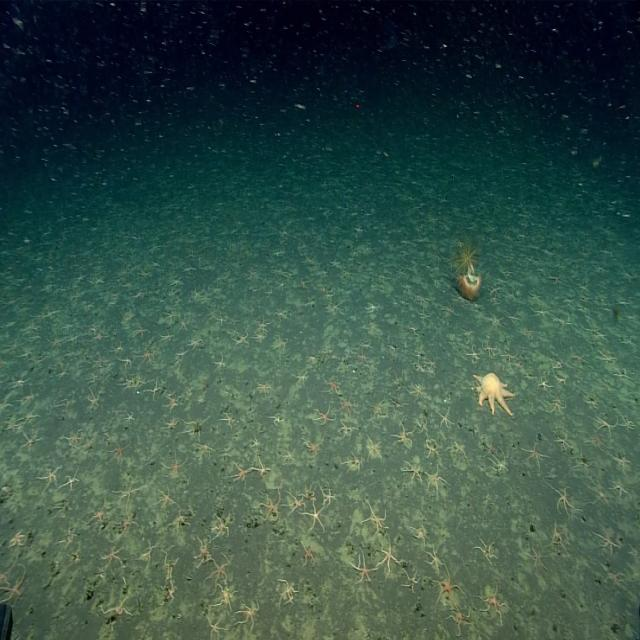brittle-stars: (435, 569, 461, 605), (482, 586, 507, 621), (52, 518, 74, 556), (550, 484, 576, 516), (3, 569, 26, 605), (113, 479, 141, 508), (613, 360, 638, 390), (352, 553, 376, 584), (300, 473, 323, 505), (208, 555, 230, 587), (260, 489, 282, 520), (379, 540, 399, 574), (365, 505, 389, 533), (297, 243, 320, 271), (594, 528, 618, 554), (104, 594, 130, 618), (588, 482, 611, 509), (450, 606, 472, 633), (306, 504, 326, 533), (53, 358, 74, 385), (326, 296, 346, 324), (522, 443, 545, 467), (164, 453, 186, 478), (476, 538, 497, 564), (54, 494, 75, 520), (238, 601, 258, 628), (216, 439, 234, 469), (610, 478, 633, 501), (39, 466, 60, 491), (278, 580, 298, 606), (571, 344, 591, 370), (551, 522, 568, 552), (107, 441, 129, 464), (104, 546, 125, 570), (15, 387, 37, 409), (618, 332, 640, 354), (91, 502, 109, 528), (404, 460, 423, 484), (526, 546, 545, 570), (212, 515, 230, 540), (67, 543, 82, 573), (83, 369, 104, 390), (116, 513, 136, 535), (594, 413, 614, 435), (602, 566, 624, 586), (372, 268, 392, 290), (497, 260, 519, 280), (345, 451, 364, 474), (393, 423, 412, 446), (426, 466, 444, 490), (365, 437, 382, 462), (6, 373, 31, 390), (314, 407, 334, 428), (184, 417, 205, 437), (216, 586, 235, 608), (63, 470, 81, 493), (208, 616, 225, 640), (319, 336, 335, 361), (482, 290, 502, 310), (8, 528, 27, 549), (158, 487, 176, 509), (587, 431, 605, 453), (482, 278, 504, 296), (285, 492, 304, 512), (22, 430, 41, 450), (304, 437, 322, 458), (197, 539, 212, 564), (172, 509, 189, 531), (232, 462, 251, 481), (302, 544, 317, 568), (65, 428, 83, 448), (164, 555, 179, 579), (340, 394, 357, 415), (426, 548, 442, 570), (298, 273, 314, 295), (582, 392, 598, 414), (409, 381, 427, 400), (58, 395, 76, 414), (320, 485, 336, 506), (405, 568, 420, 590), (548, 396, 566, 414), (252, 458, 270, 476), (492, 452, 508, 472), (555, 431, 571, 451), (597, 350, 617, 366), (305, 347, 318, 371), (197, 443, 215, 460), (22, 409, 40, 426), (140, 348, 156, 367), (438, 409, 454, 428), (88, 270, 104, 289), (164, 581, 178, 602), (80, 434, 94, 455), (304, 292, 318, 313), (615, 454, 632, 471), (620, 414, 636, 432), (324, 377, 340, 395), (427, 274, 445, 290), (142, 545, 156, 565), (255, 380, 272, 396), (220, 412, 236, 429), (256, 315, 272, 332), (166, 392, 181, 410), (146, 380, 160, 399), (403, 276, 417, 295), (89, 388, 102, 408), (451, 442, 467, 458), (292, 372, 308, 388), (92, 353, 108, 369), (5, 419, 21, 435), (341, 420, 356, 437), (483, 340, 497, 358), (413, 525, 427, 543), (374, 401, 386, 422), (262, 282, 276, 300), (489, 312, 504, 328), (235, 332, 250, 348), (628, 541, 640, 561), (531, 306, 548, 320), (425, 441, 439, 458), (416, 416, 429, 434), (165, 416, 180, 431), (50, 335, 65, 350), (504, 310, 520, 324), (160, 330, 176, 344), (537, 376, 551, 392), (275, 336, 289, 352), (442, 302, 456, 318), (365, 321, 379, 337), (119, 376, 133, 392), (520, 325, 536, 339), (391, 374, 404, 391), (0, 396, 11, 416), (135, 326, 150, 340), (270, 413, 284, 428), (120, 310, 134, 325), (119, 354, 132, 370), (177, 316, 190, 332), (549, 273, 565, 286), (190, 284, 202, 301), (366, 358, 378, 375), (630, 564, 640, 584), (214, 352, 225, 370), (190, 338, 204, 352), (252, 332, 266, 346), (365, 301, 379, 315), (94, 330, 108, 344), (484, 441, 497, 456), (416, 293, 432, 305), (175, 347, 187, 363), (357, 348, 368, 365), (466, 346, 479, 360), (501, 349, 515, 362), (418, 307, 432, 320), (276, 308, 289, 322), (134, 288, 147, 301), (282, 449, 294, 463), (409, 322, 421, 335), (171, 275, 183, 288), (319, 284, 332, 296), (342, 268, 355, 280), (112, 343, 124, 356), (553, 357, 565, 370), (182, 264, 195, 276), (247, 268, 259, 281), (357, 260, 368, 274), (164, 308, 175, 322), (134, 376, 144, 391), (125, 412, 137, 424), (529, 290, 541, 302), (329, 256, 341, 268), (216, 314, 227, 327), (231, 314, 241, 328), (251, 437, 260, 452), (277, 279, 288, 291), (414, 350, 425, 362), (515, 359, 526, 371), (318, 267, 329, 279), (90, 322, 101, 334), (415, 360, 425, 373), (426, 356, 436, 369), (273, 266, 283, 278)
